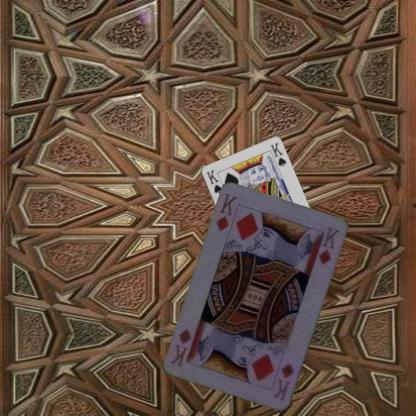Kd: (212, 191, 239, 233), (270, 360, 296, 402)
Ks: (203, 167, 223, 195)
